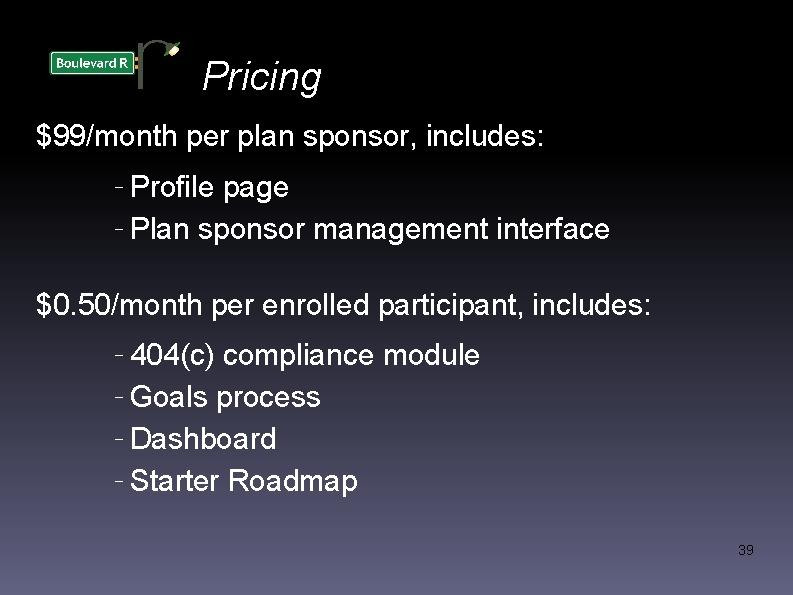paragraph: (23, 102, 714, 520)
title: (197, 48, 346, 107)
